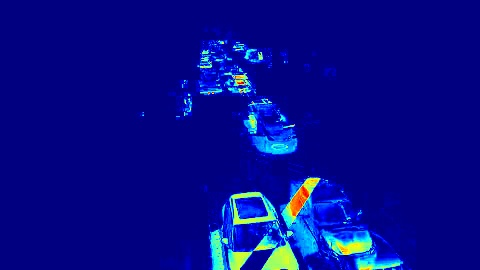vehicle: (290, 183, 372, 264), (215, 201, 277, 269), (242, 100, 302, 153), (226, 73, 255, 94), (199, 77, 222, 99)
